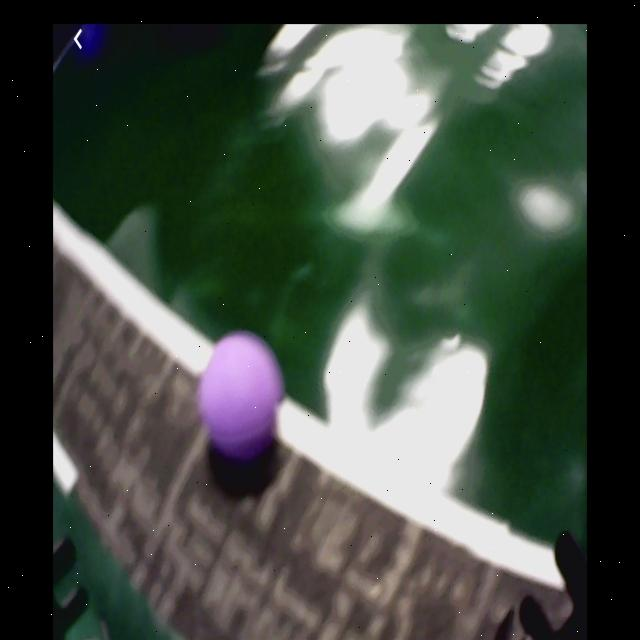ball: (201, 335, 282, 456), (77, 26, 105, 62)
